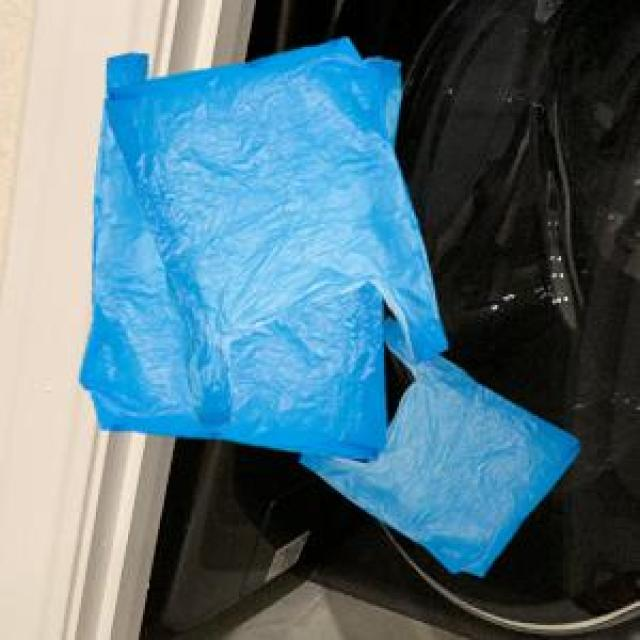plastic: (58, 29, 606, 605)
